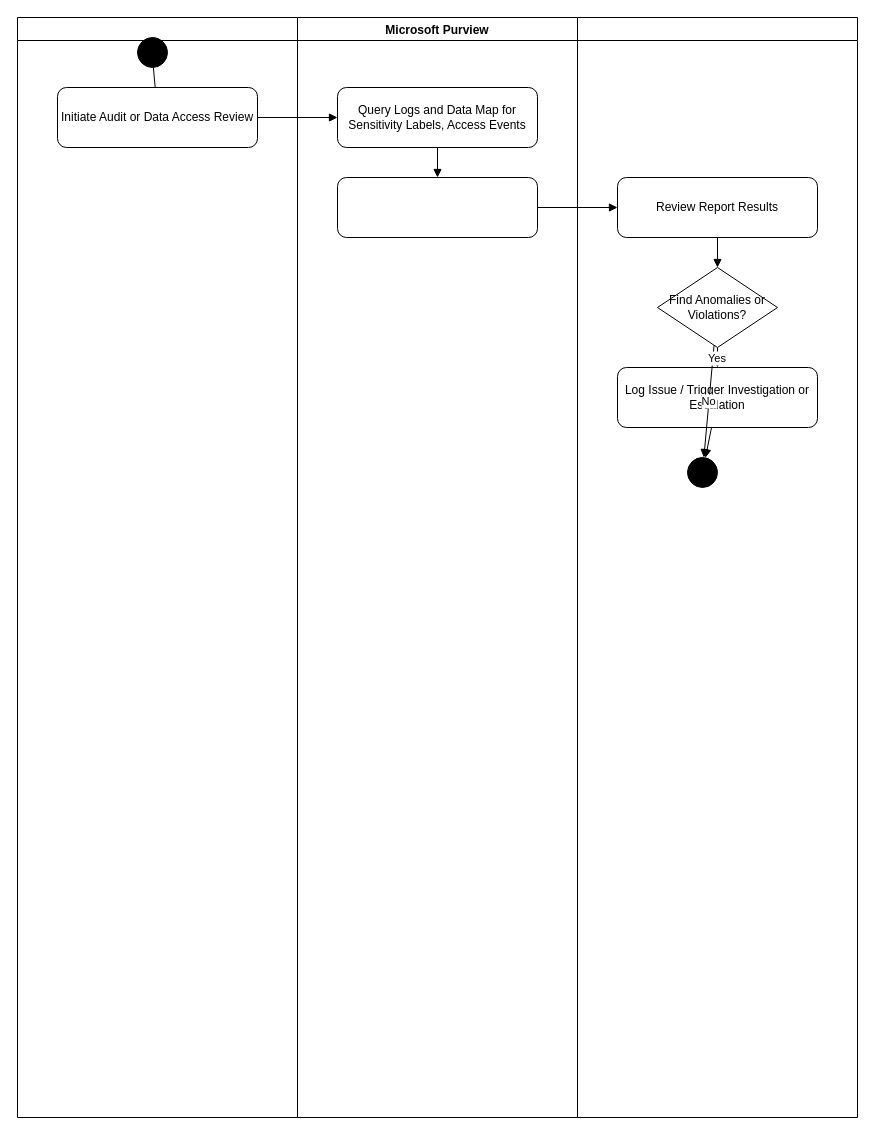
The diagram is 875 pixels wide and 1135 high, and some of its shapes have lost their labels. Each missing label, with the box of its shape:
Generate Report on Data Locations and Access History: (336, 176, 538, 238)
Report Consumers (Audit, Compliance, Mgmt): (576, 16, 858, 1118)
Security Engineer / Auditor: (16, 16, 298, 1118)
